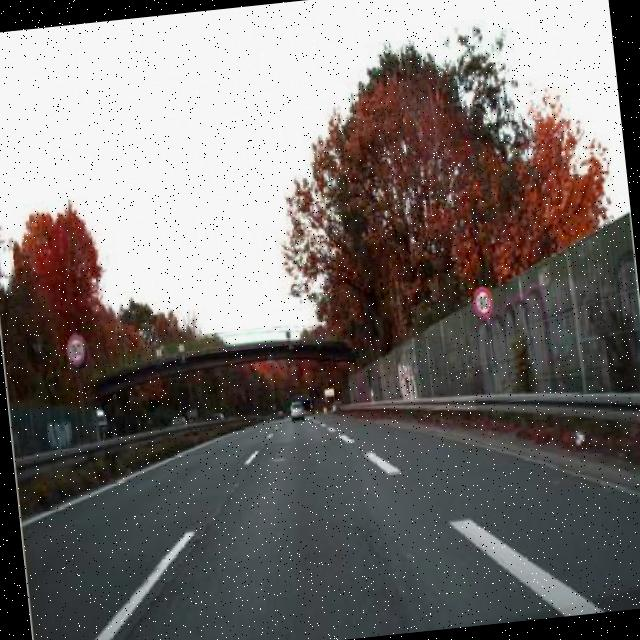Ograniczenie predkosci do 80: (471, 283, 495, 320), (64, 334, 88, 366)
